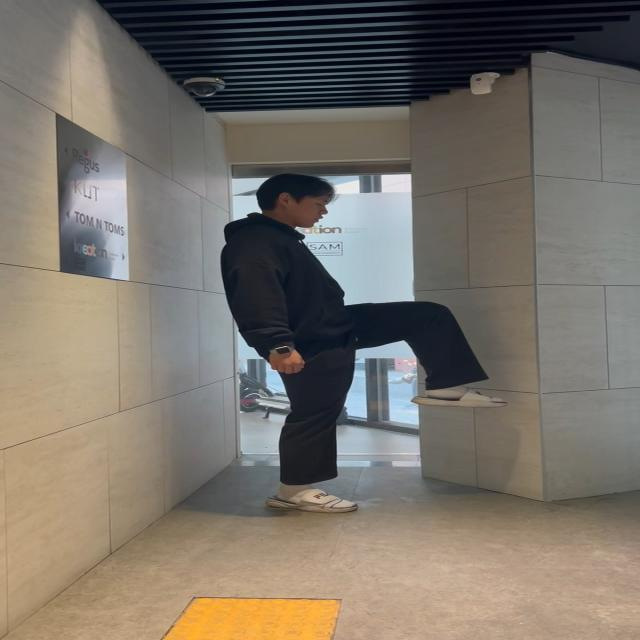knee: (278, 294, 512, 412)
